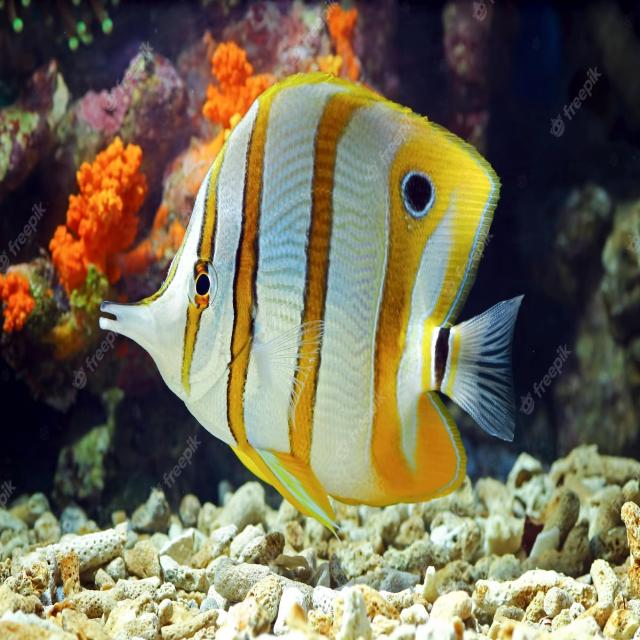ButterflyFish: (103, 76, 524, 528)
